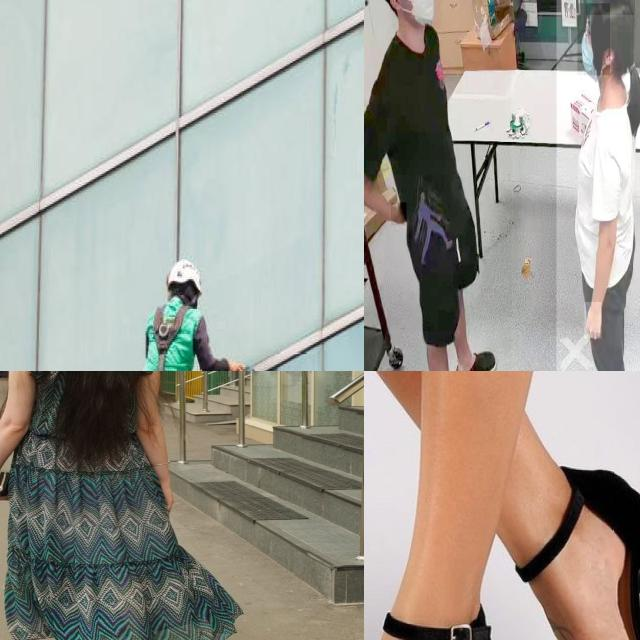Harness: (141, 303, 197, 371)
Sandals: (504, 466, 640, 640)
face_mask: (578, 4, 610, 76), (389, 0, 442, 28)
hand_noglove: (584, 302, 602, 339), (391, 202, 407, 226)
head_nohelmet: (586, 0, 635, 16)
person: (364, 0, 511, 371), (556, 0, 640, 371)
shoes: (451, 346, 501, 371)
